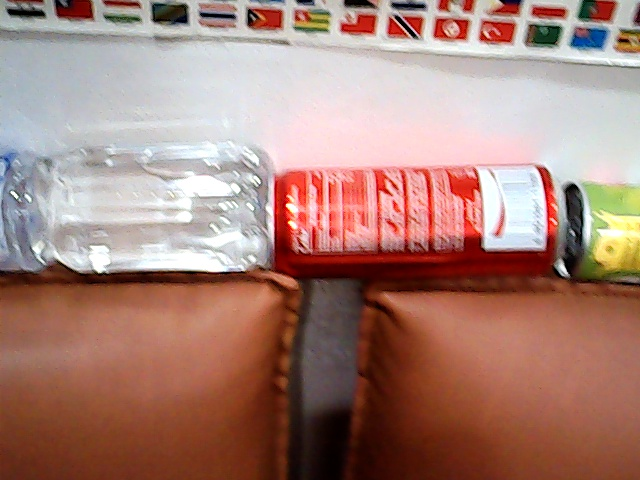Cola: (264, 146, 571, 287)
Summit Water: (1, 131, 272, 272)
